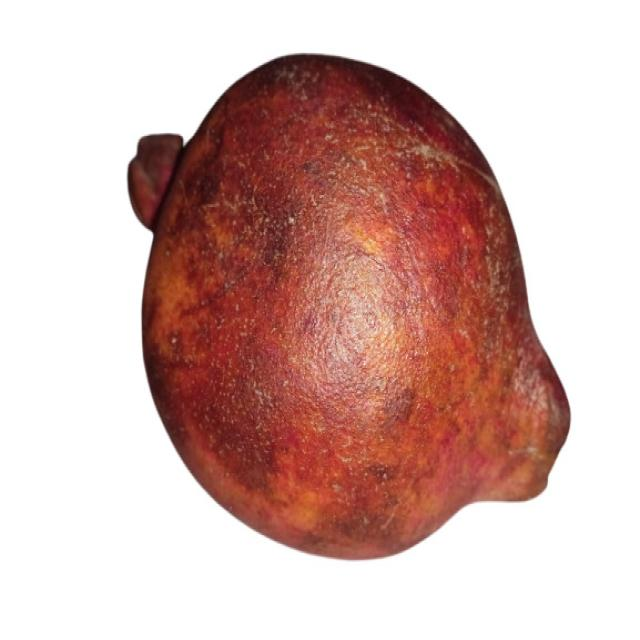overripe: (127, 44, 576, 566)
